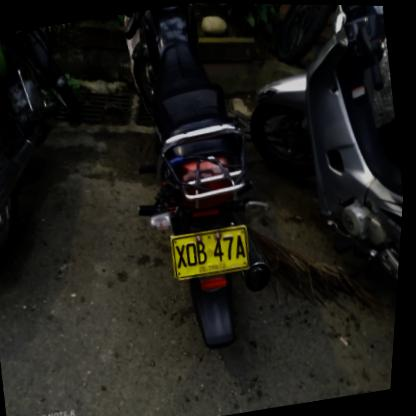placa: (167, 219, 260, 284)
